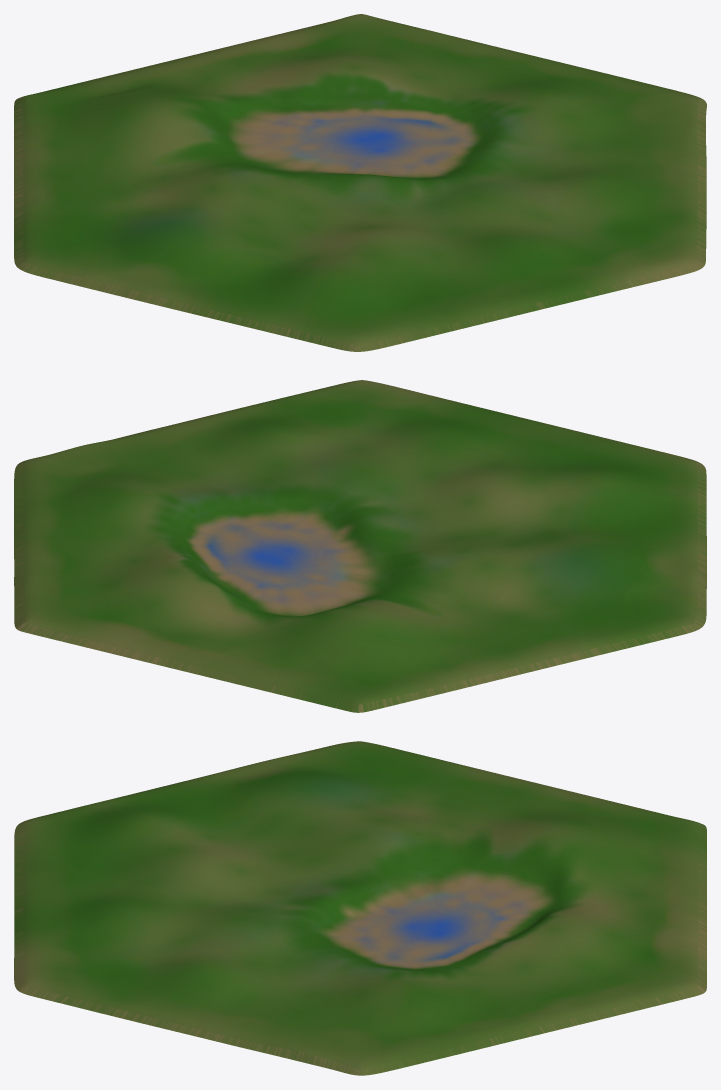
The model's file is Forest3.glb.
3 views of the same model, one above another, from view 1: azimuth 30°, elevation 25°; view 2: azimuth 150°, elevation 25°; view 3: azimuth 270°, elevation 25° (orthographic).
Visible parts, largest first — view 1: Circle; view 2: Circle; view 3: Circle.
Part boxes in pixels (x1,y1,x2,y2): Circle: (14,14,706,351); Circle: (14,380,706,712); Circle: (14,741,706,1075).
Bounding box in the file's own units: 405 × 15.72 × 355.
1 material, 1 textured.
